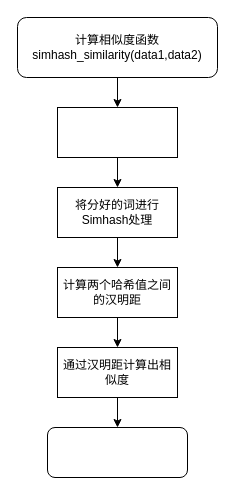
Image size: 235x495. Some labels were removed from this diagram. The shapes that lost their labels are listed below. From the top down, each one's box as (x1, y1, x2, y2) in pixels, then its label:
(56, 106, 178, 158): 使用jieba进行分词
(46, 426, 188, 478): 结束
